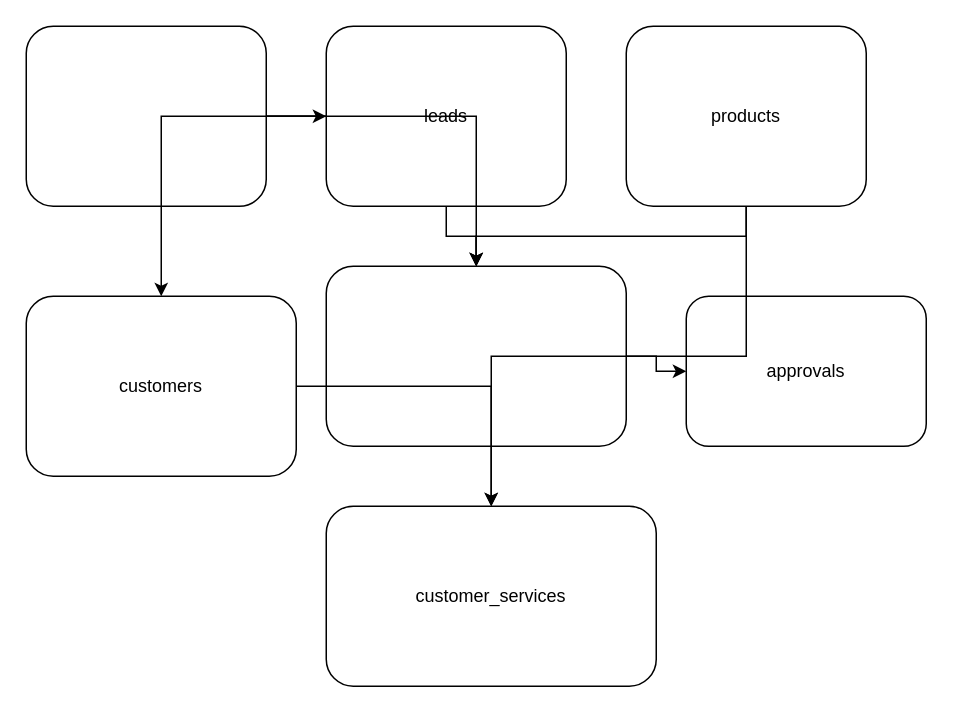
The diagram is 953 pixels wide and 713 high, and some of its shapes have lost their labels. Here are the shapes that lost their labels. From the top down, the centre of each, then its label:
(145,115): users
(475,355): projects
